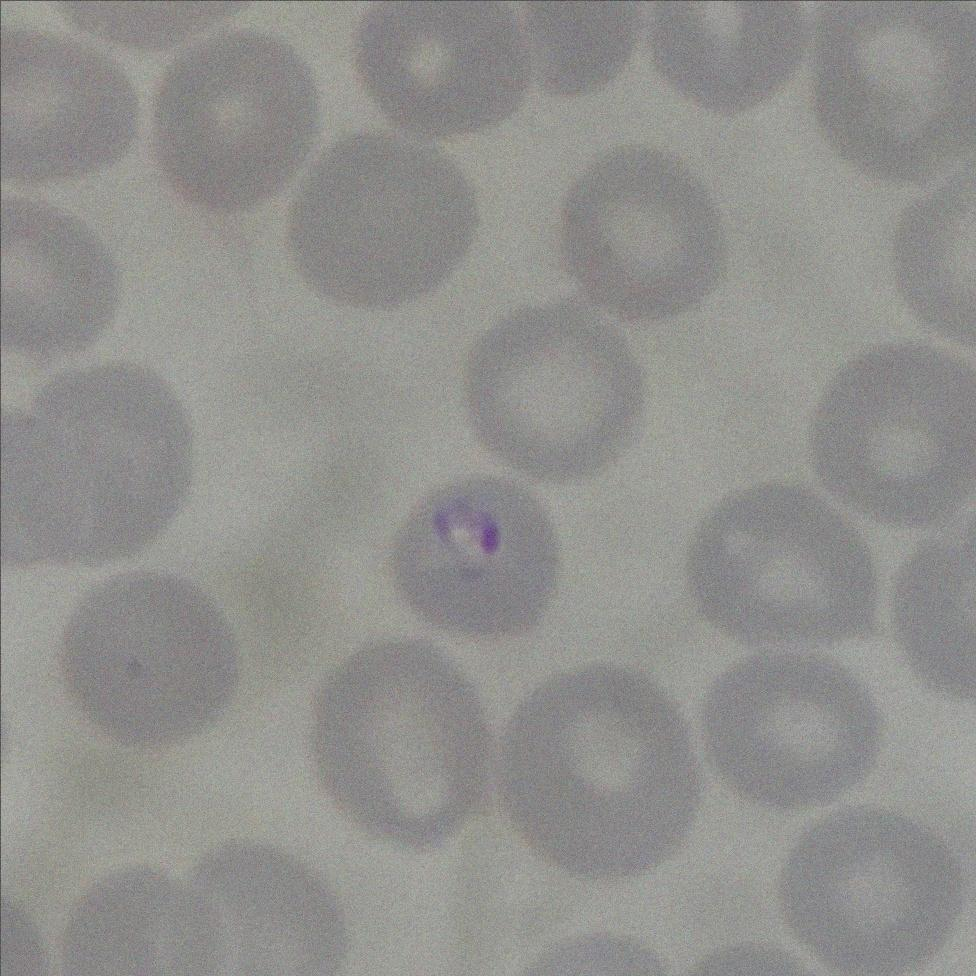Infected: (389, 475, 561, 641)
Uninfected: (498, 660, 706, 876), (9, 360, 199, 566), (311, 638, 495, 844), (288, 132, 477, 312), (470, 298, 651, 483), (58, 569, 241, 749), (682, 483, 878, 651), (154, 28, 328, 210), (697, 647, 886, 810), (560, 142, 728, 320), (812, 344, 976, 524), (778, 804, 956, 963), (808, 7, 970, 173), (357, 2, 533, 137), (176, 839, 353, 970), (6, 24, 141, 188), (220, 506, 365, 655), (5, 191, 123, 364), (281, 369, 425, 503), (649, 4, 817, 116), (65, 866, 209, 971), (505, 1, 646, 104)
